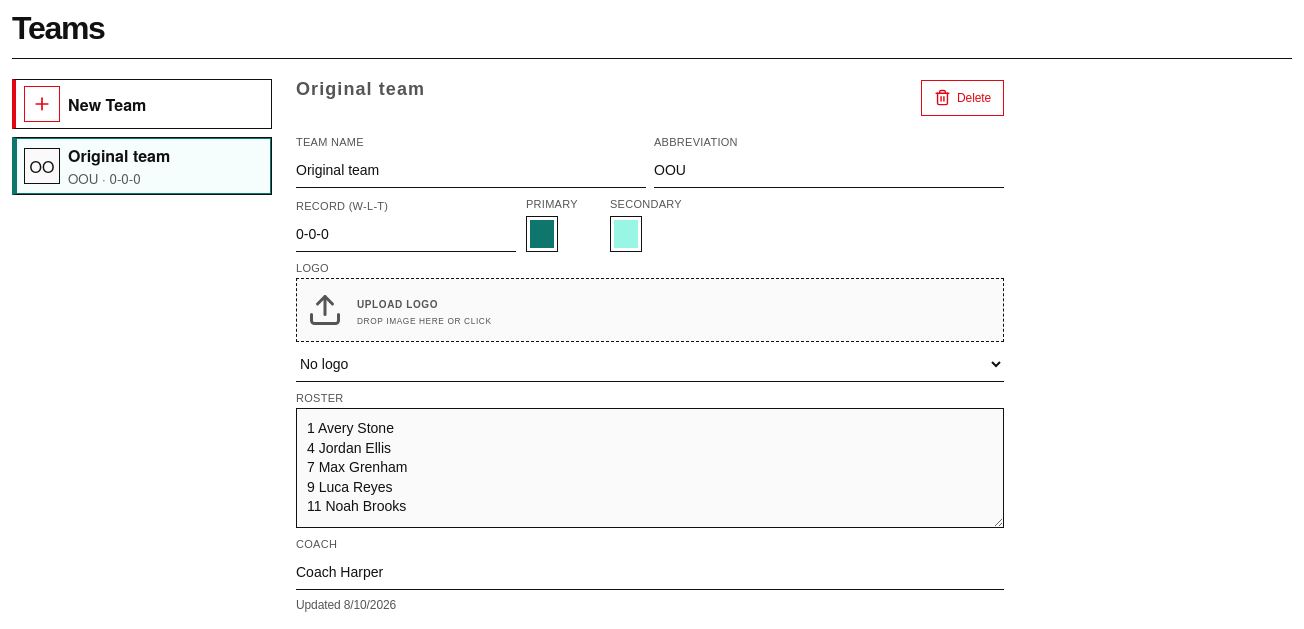
Test: TeamsLibrary concurrency and reconciliation › waits for an in-flight save and deletes with the resulting server revision
The image size is (1304, 629).
Step 1. Replace the text in the field labelled "Team name" with "Saved team" → {"x": 471, "y": 170}, box [296, 152, 646, 188]
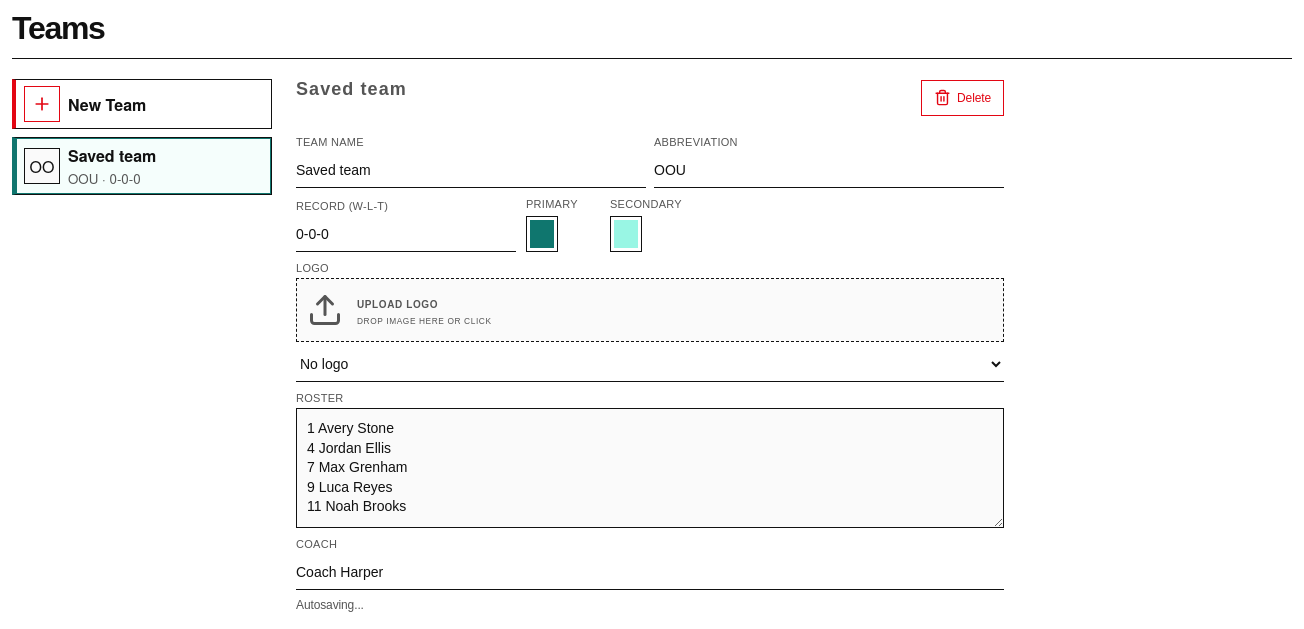
Step 2. Click the button "Delete" → {"x": 962, "y": 98}, box [921, 80, 1004, 116]
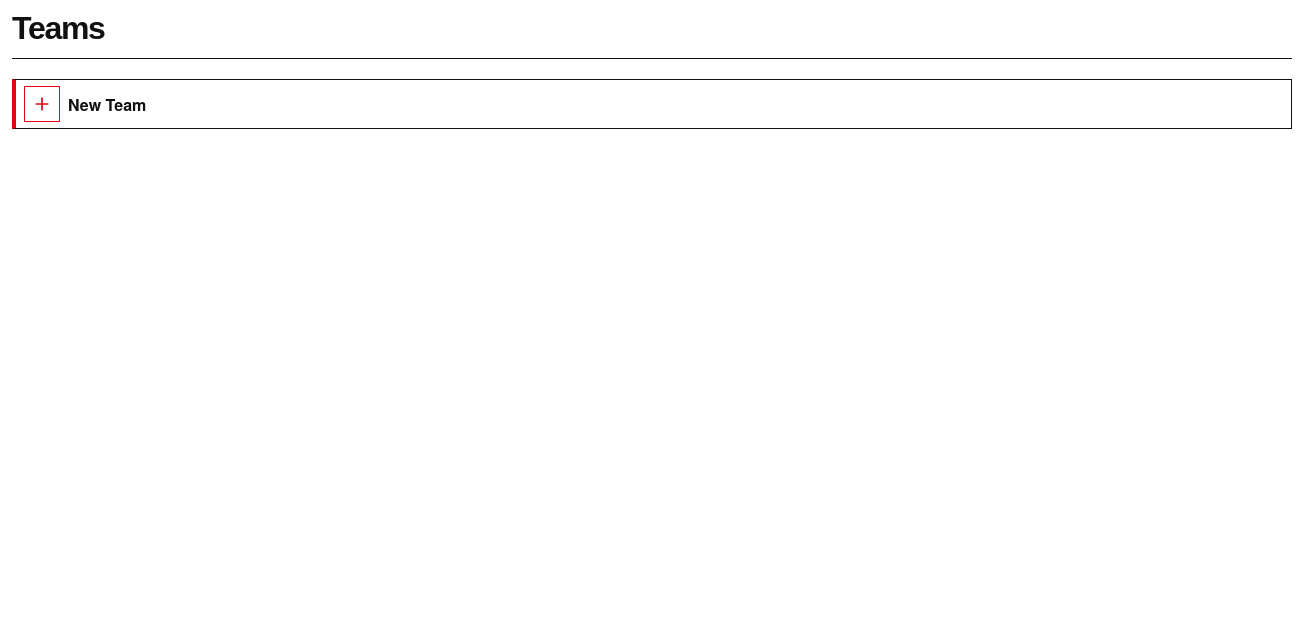
expect the button "Saved team" is gone: met
